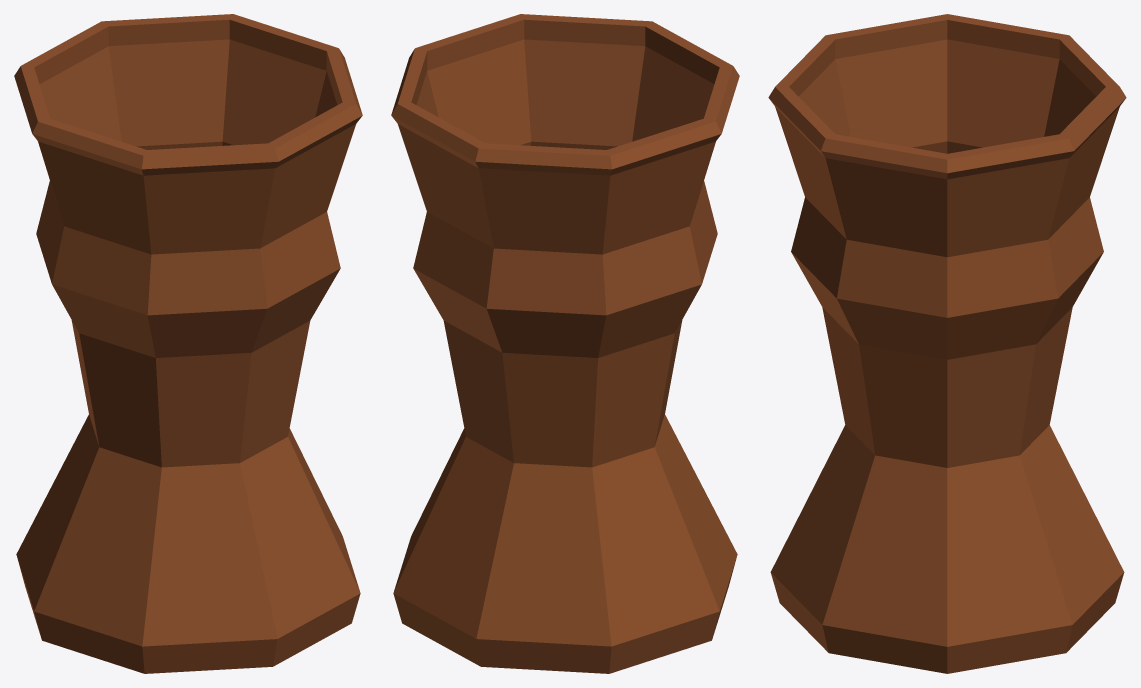
File: Collin_Vase_003.fbx
3 views of the same model, side by side, from view 1: azimuth 30°, elevation 25°; view 2: azimuth 150°, elevation 25°; view 3: azimuth 270°, elevation 25° (orthographic).
Parts seen in each view (by area): view 1: Vase_003; view 2: Vase_003; view 3: Vase_003.
Part boxes in pixels (x1=…): Vase_003: x1=14, y1=14, x2=362, y2=673; Vase_003: x1=391, y1=14, x2=739, y2=673; Vase_003: x1=768, y1=14, x2=1126, y2=673.
Bounding box in the file's own units: 48.98 × 77.86 × 48.98.
Materials: 1 (1 with a texture image).
